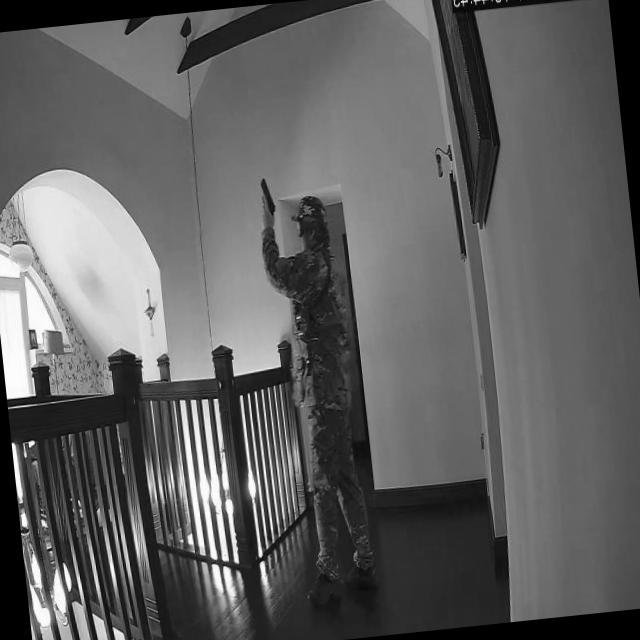gun: (256, 175, 277, 224)
person with a gun: (274, 186, 377, 608)
